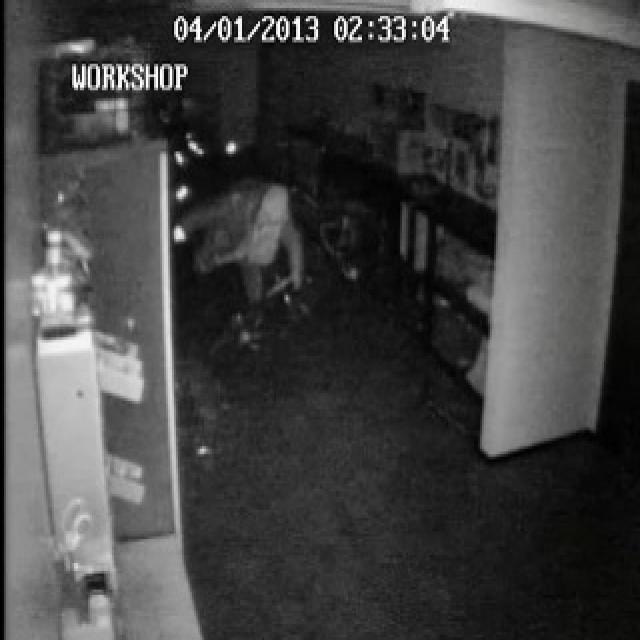thief: (217, 172, 306, 305)
